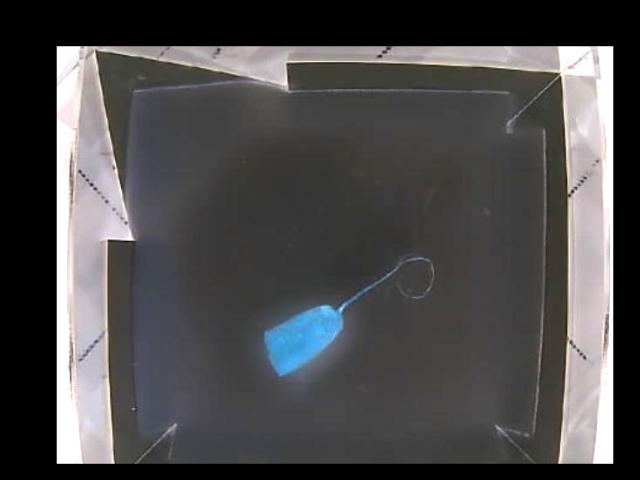Carrot: (261, 300, 347, 377)
